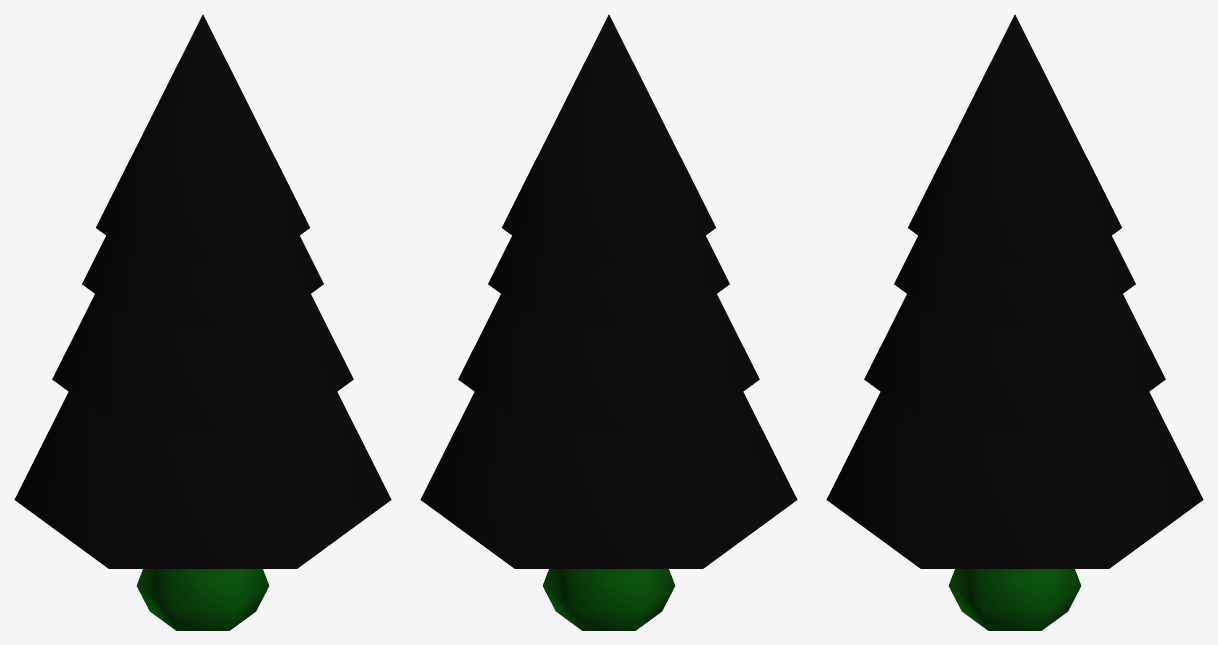
Rendered from Tree-Pine.fbx.
3 renders of one model, left to right at view 1: azimuth 30°, elevation 25°; view 2: azimuth 150°, elevation 25°; view 3: azimuth 270°, elevation 25°, orthographic.
Parts seen in each view (by area): view 1: Tree-Pine; view 2: Tree-Pine; view 3: Tree-Pine.
Part boxes in pixels (left/top/right/bottom): Tree-Pine: left=14, top=14, right=391, bottom=630; Tree-Pine: left=420, top=14, right=797, bottom=630; Tree-Pine: left=826, top=14, right=1203, bottom=630.
Size of the model in its own units: 173 by 200 by 350.
